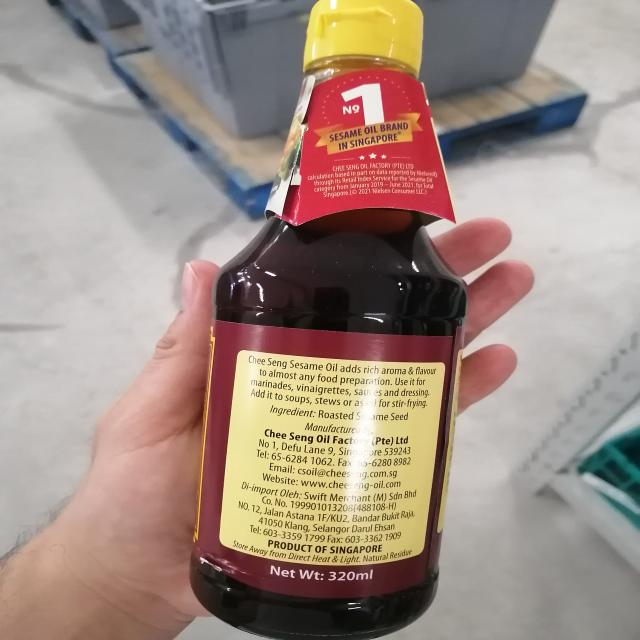object_name: (230, 1, 441, 640)
